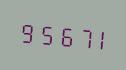five: (36, 17, 53, 49)
nine: (18, 16, 35, 47)
one: (90, 22, 107, 53)
seven: (72, 20, 89, 52)
six: (54, 19, 71, 50)
